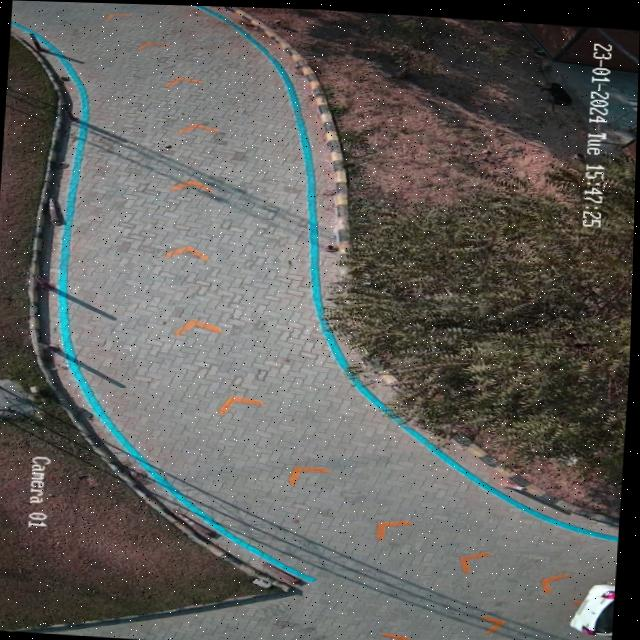car: (571, 580, 618, 632)
